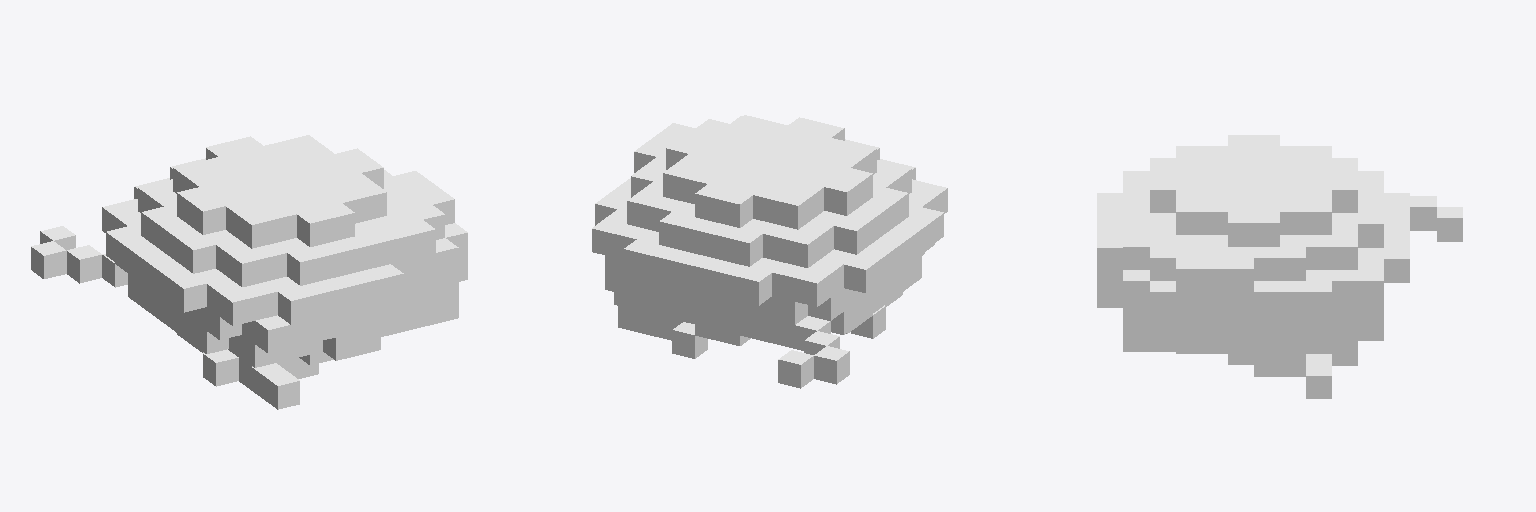
Rendered from PookaSquishQuarter.obj.
3 views of the same model, side by side, from view 1: azimuth 30°, elevation 25°; view 2: azimuth 150°, elevation 25°; view 3: azimuth 270°, elevation 25° (orthographic).
Parts seen in each view (by area): view 1: object 1; view 2: object 1; view 3: object 1.
Boxes of the visible parts, x1=… form: object 1: x1=31, y1=135, x2=467, y2=409; object 1: x1=592, y1=115, x2=947, y2=388; object 1: x1=1097, y1=135, x2=1462, y2=398.
Bounding box in the file's own units: 1.3 × 0.7 × 1.4.